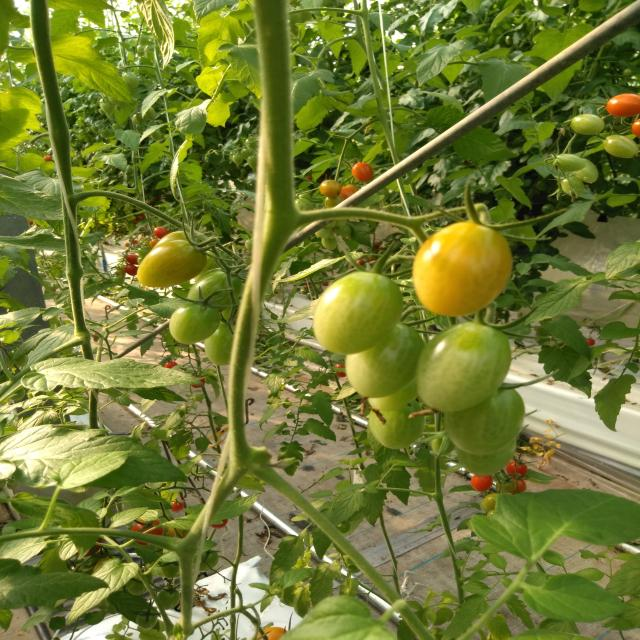yesil: (289, 218, 589, 496)
